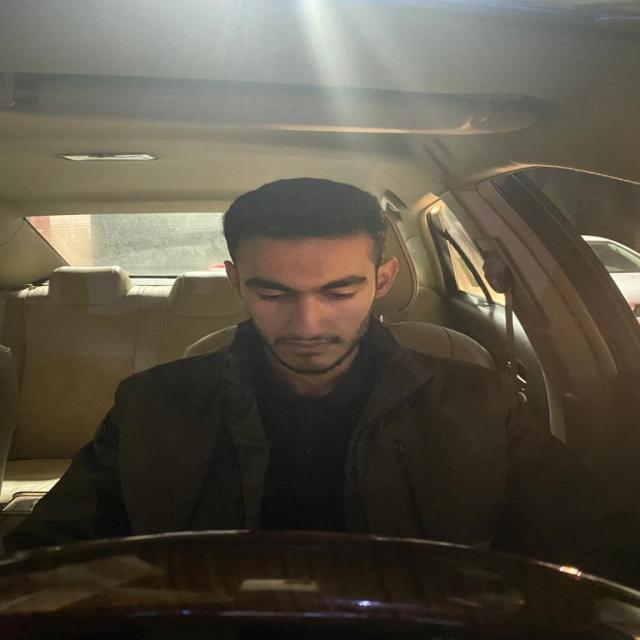person: (211, 170, 427, 398)
